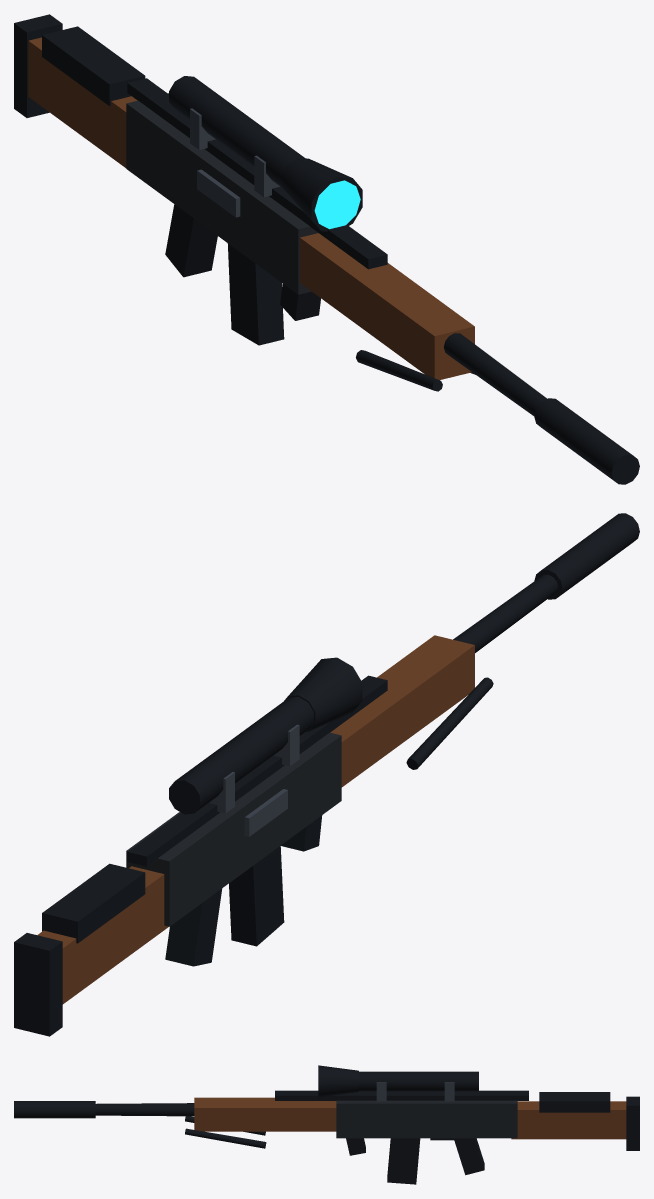
File: svd.glb
3 views of the same model, one above another, from view 1: azimuth 30°, elevation 25°; view 2: azimuth 150°, elevation 25°; view 3: azimuth 270°, elevation 25° (orthographic). The views are drawn at different scales.
Visible parts, largest first — view 1: Weapon_svd; view 2: Weapon_svd; view 3: Weapon_svd.
Part boxes in pixels (x1=…): Weapon_svd: x1=14, y1=14, x2=639, y2=484; Weapon_svd: x1=14, y1=513, x2=639, y2=1036; Weapon_svd: x1=14, y1=1065, x2=639, y2=1184.
Bounding box in the file's own units: 0.084 × 0.2793 × 1.38.
